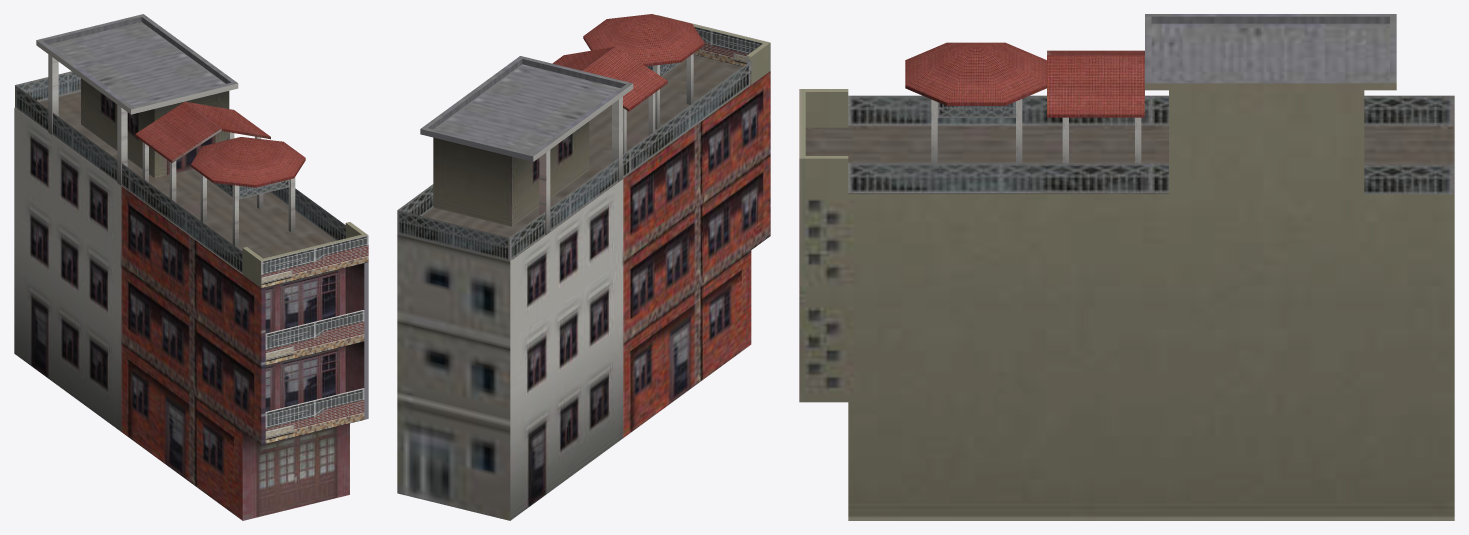
3 views of the same model, side by side, from view 1: azimuth 30°, elevation 25°; view 2: azimuth 150°, elevation 25°; view 3: azimuth 270°, elevation 25° (orthographic). The views are drawn at different scales.
Parts seen in each view (by area): view 1: 5da8281ce709220790fd1df6.001; view 2: 5da8281ce709220790fd1df6.001; view 3: 5da8281ce709220790fd1df6.001.
Part boxes in pixels (x1=…): 5da8281ce709220790fd1df6.001: x1=14, y1=14, x2=368, y2=520; 5da8281ce709220790fd1df6.001: x1=397, y1=14, x2=770, y2=520; 5da8281ce709220790fd1df6.001: x1=799, y1=14, x2=1454, y2=520.
Bounding box in the file's own units: 5.01 × 14.82 × 20.
Materials: 1 (1 with a texture image).
